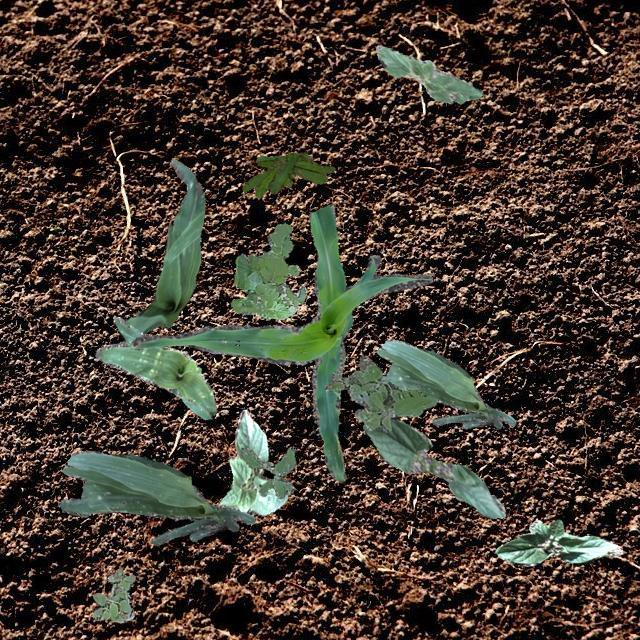crop: (130, 203, 432, 482), (58, 450, 254, 544), (118, 158, 204, 340), (362, 418, 504, 518), (376, 338, 514, 428), (94, 316, 214, 418), (218, 408, 286, 514), (374, 44, 482, 102), (494, 518, 622, 566)
weed: (324, 354, 436, 430), (230, 222, 306, 318), (240, 152, 334, 196), (240, 446, 294, 498), (92, 568, 134, 622)
